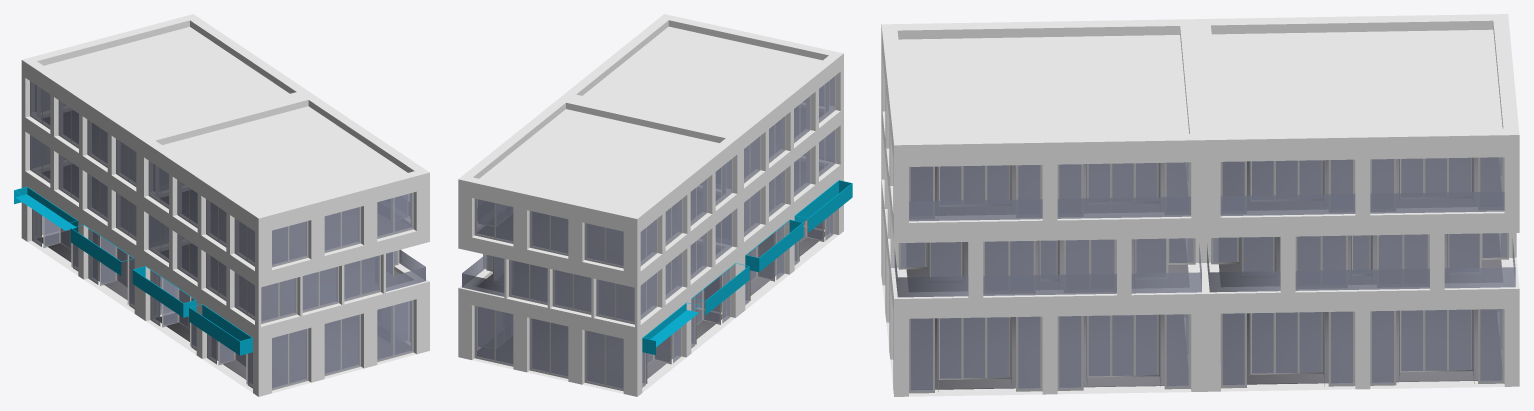
File: 2FloorBuilding.dae
3 renders of one model, left to right at view 1: azimuth 30°, elevation 25°; view 2: azimuth 150°, elevation 25°; view 3: azimuth 270°, elevation 25°, orthographic. The views are drawn at different scales.
Parts seen in each view (by area): view 1: CityEngineMaterial_30; view 2: CityEngineMaterial_30; view 3: CityEngineMaterial_30.
Boxes of the visible parts, x1,y1,x2,y2 form: CityEngineMaterial_30: (14, 14, 429, 396); CityEngineMaterial_30: (458, 14, 852, 396); CityEngineMaterial_30: (881, 14, 1519, 396).
Size of the model in its own units: 15.07 by 28.95 by 12.6.
